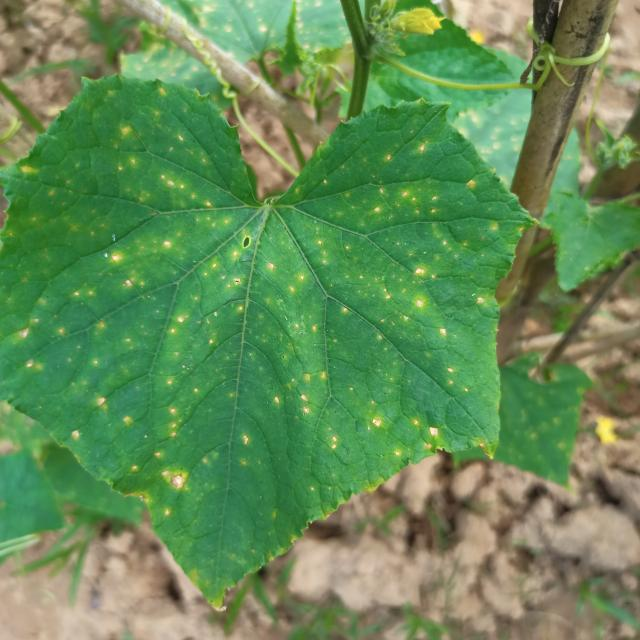disease_cucumber: (14, 106, 496, 535)
